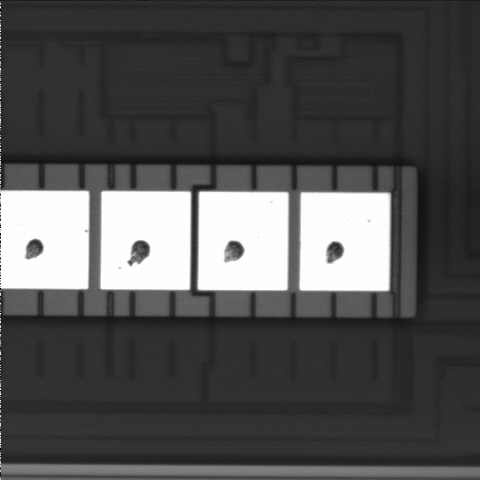pad: (100, 191, 191, 290), (300, 192, 390, 291), (198, 192, 288, 290)
